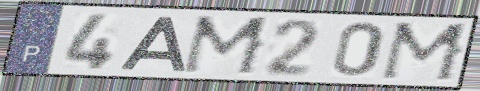0: (329, 20, 387, 80)
2: (265, 17, 322, 78)
4: (62, 12, 116, 71)
A: (116, 15, 189, 73)
M: (177, 14, 275, 78), (376, 20, 473, 84)
